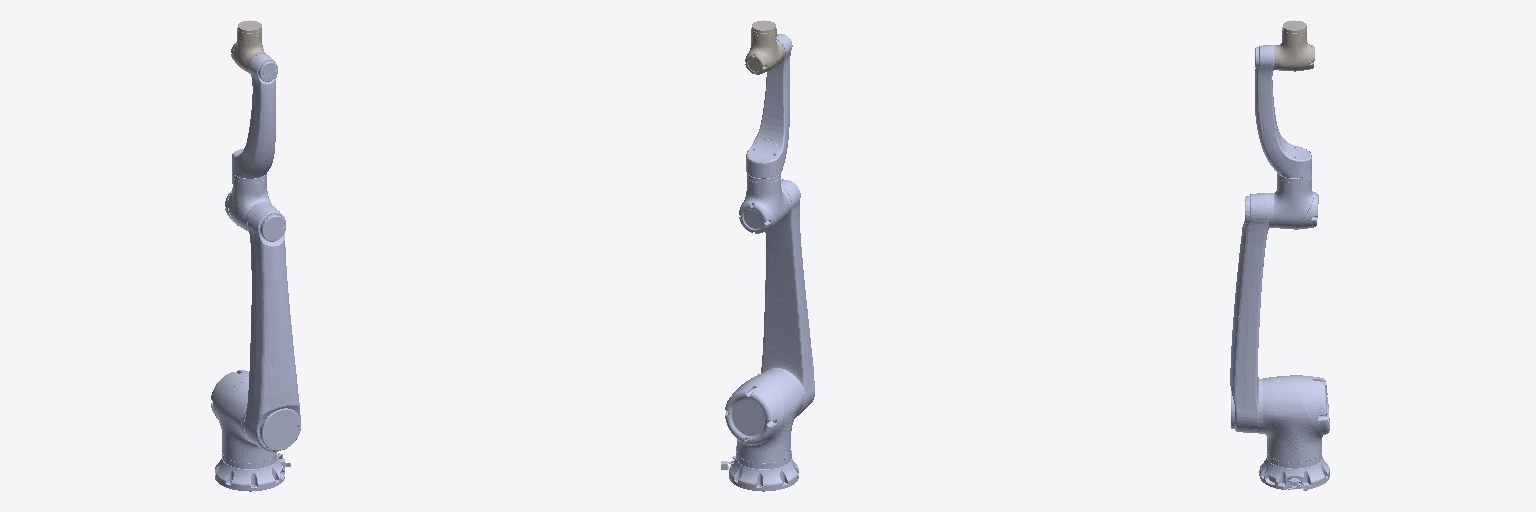
The robot description file, URDF, robot "E15_Pro":
<?xml version="1.0" encoding="utf-8"?>
<!-- This URDF was automatically created by SolidWorks to URDF Exporter! Originally created by Stephen Brawner (brawner@gmail.com) 
     Commit Version: 1.6.0-1-g15f4949  Build Version: 1.6.7594.29634
     For more information, please see http://wiki.ros.org/sw_urdf_exporter -->
<robot
  name="E15_Pro">
  <link
    name="elfin_base">
    <inertial>
      <origin
        xyz="-0.00199411553277064 0.00063323621214391 0.0301424235634334"
        rpy="0 0 0" />
      <mass
        value="2.27708985449447" />
      <inertia
        ixx="0.00782299698813237"
        ixy="-0.000107362051107486"
        ixz="-5.91745158864119E-05"
        iyy="0.00729502919076158"
        iyz="1.17813894444097E-05"
        izz="0.0136674477034192" />
    </inertial>
    <visual>
      <origin
        xyz="0 0 0"
        rpy="0 0 0" />
      <geometry>
        <mesh
          filename="package://E15_Pro/meshes/elfin_base.STL" />
      </geometry>
      <material
        name="">
        <color
          rgba="0.792156862745098 0.819607843137255 0.933333333333333 1" />
      </material>
    </visual>
    <collision>
      <origin
        xyz="0 0 0"
        rpy="0 0 0" />
      <geometry>
        <mesh
          filename="package://E15_Pro/meshes/elfin_base.STL" />
      </geometry>
    </collision>
  </link>
  <link
    name="elfin_link1">
    <inertial>
      <origin
        xyz="1.36842512910907E-05 -0.00676369891392312 -0.0422311423079152"
        rpy="0 0 0" />
      <mass
        value="10.3929249423409" />
      <inertia
        ixx="0.0828964585786518"
        ixy="1.1067410096532E-05"
        ixz="-1.58971530314236E-05"
        iyy="0.082308395988101"
        iyz="0.0139305860641097"
        izz="0.0523718010626434" />
    </inertial>
    <visual>
      <origin
        xyz="0 0 0"
        rpy="0 0 0" />
      <geometry>
        <mesh
          filename="package://E15_Pro/meshes/elfin_link1.STL" />
      </geometry>
      <material
        name="">
        <color
          rgba="0.792156862745098 0.819607843137255 0.933333333333333 1" />
      </material>
    </visual>
    <collision>
      <origin
        xyz="0 0 0"
        rpy="0 0 0" />
      <geometry>
        <mesh
          filename="package://E15_Pro/meshes/elfin_link1.STL" />
      </geometry>
    </collision>
  </link>
  <joint
    name="elfin_joint1"
    type="revolute">
    <origin
      xyz="0 0 0.262"
      rpy="0 0 0" />
    <parent
      link="elfin_base" />
    <child
      link="elfin_link1" />
    <axis
      xyz="0 0 1" />
    <limit
      lower="-3.14"
      upper="3.14"
      effort="420"
      velocity="1.57" />
  </joint>
  <link
    name="elfin_link2">
    <inertial>
      <origin
        xyz="2.07994897549779E-05 0.295038953315824 0.157191987297606"
        rpy="0 0 0" />
      <mass
        value="9.19491928952107" />
      <inertia
        ixx="0.546697742927701"
        ixy="-5.86626053178139E-05"
        ixz="-4.41304390374249E-06"
        iyy="0.021193831257034"
        iyz="0.0305941138252272"
        izz="0.55359780949348" />
    </inertial>
    <visual>
      <origin
        xyz="0 0 0"
        rpy="0 0 0" />
      <geometry>
        <mesh
          filename="package://E15_Pro/meshes/elfin_link2.STL" />
      </geometry>
      <material
        name="">
        <color
          rgba="0.792156862745098 0.819607843137255 0.933333333333333 1" />
      </material>
    </visual>
    <collision>
      <origin
        xyz="0 0 0"
        rpy="0 0 0" />
      <geometry>
        <mesh
          filename="package://E15_Pro/meshes/elfin_link2.STL" />
      </geometry>
    </collision>
  </link>
  <joint
    name="elfin_joint2"
    type="revolute">
    <origin
      xyz="0 0 0"
      rpy="1.5708 0 0" />
    <parent
      link="elfin_link1" />
    <child
      link="elfin_link2" />
    <axis
      xyz="0 0 1" />
    <limit
      lower="-2.35"
      upper="2.35"
      effort="420"
      velocity="1.57" />
  </joint>
  <link
    name="elfin_link3">
    <inertial>
      <origin
        xyz="0.037086533426578 -2.76484244092204E-06 -0.00590525675764963"
        rpy="0 0 0" />
      <mass
        value="3.16386481656016" />
      <inertia
        ixx="0.00694845222729542"
        ixy="4.19153596492121E-07"
        ixz="-0.00236462552129021"
        iyy="0.0129640972388441"
        iyz="-1.19614353055274E-07"
        izz="0.0121432398176995" />
    </inertial>
    <visual>
      <origin
        xyz="0 0 0"
        rpy="0 0 0" />
      <geometry>
        <mesh
          filename="package://E15_Pro/meshes/elfin_link3.STL" />
      </geometry>
      <material
        name="">
        <color
          rgba="0.792156862745098 0.819607843137255 0.933333333333333 1" />
      </material>
    </visual>
    <collision>
      <origin
        xyz="0 0 0"
        rpy="0 0 0" />
      <geometry>
        <mesh
          filename="package://E15_Pro/meshes/elfin_link3.STL" />
      </geometry>
    </collision>
  </link>
  <joint
    name="elfin_joint3"
    type="revolute">
    <origin
      xyz="0 0.73 0"
      rpy="3.1416 0 1.5708" />
    <parent
      link="elfin_link2" />
    <child
      link="elfin_link3" />
    <axis
      xyz="0 0 1" />
    <limit
      lower="-2.61"
      upper="2.61"
      effort="200"
      velocity="1.57" />
  </joint>
  <link
    name="elfin_link4">
    <inertial>
      <origin
        xyz="4.12080256020668E-05 -0.0670953503097295 0.32255223684202"
        rpy="0 0 0" />
      <mass
        value="2.69476130736526" />
      <inertia
        ixx="0.0546354426202922"
        ixy="3.71719995396986E-06"
        ixz="-1.96382354686884E-05"
        iyy="0.0508168876899657"
        iyz="0.0117411763085427"
        izz="0.00741590155255334" />
    </inertial>
    <visual>
      <origin
        xyz="0 0 0"
        rpy="0 0 0" />
      <geometry>
        <mesh
          filename="package://E15_Pro/meshes/elfin_link4.STL" />
      </geometry>
      <material
        name="">
        <color
          rgba="0.792156862745098 0.819607843137255 0.933333333333333 1" />
      </material>
    </visual>
    <collision>
      <origin
        xyz="0 0 0"
        rpy="0 0 0" />
      <geometry>
        <mesh
          filename="package://E15_Pro/meshes/elfin_link4.STL" />
      </geometry>
    </collision>
  </link>
  <joint
    name="elfin_joint4"
    type="revolute">
    <origin
      xyz="0 0 0"
      rpy="1.5708 0 1.5708" />
    <parent
      link="elfin_link3" />
    <child
      link="elfin_link4" />
    <axis
      xyz="0 0 1" />
    <limit
      lower="-3.14"
      upper="3.14"
      effort="200"
      velocity="1.57" />
  </joint>
  <link
    name="elfin_link5">
    <inertial>
      <origin
        xyz="5.48843702646031E-06 -0.027350343019322 -0.00487894526110686"
        rpy="0 0 0" />
      <mass
        value="1.35243047686757" />
      <inertia
        ixx="0.00332334754657183"
        ixy="2.20499035641612E-07"
        ixz="-5.56434244430056E-07"
        iyy="0.00178064852565376"
        iyz="0.000626857795225032"
        izz="0.00287611519664655" />
    </inertial>
    <visual>
      <origin
        xyz="0 0 0"
        rpy="0 0 0" />
      <geometry>
        <mesh
          filename="package://E15_Pro/meshes/elfin_link5.STL" />
      </geometry>
      <material
        name="">
        <color
          rgba="0.772549019607843 0.752941176470588 0.733333333333333 1" />
      </material>
    </visual>
    <collision>
      <origin
        xyz="0 0 0"
        rpy="0 0 0" />
      <geometry>
        <mesh
          filename="package://E15_Pro/meshes/elfin_link5.STL" />
      </geometry>
    </collision>
  </link>
  <joint
    name="elfin_joint5"
    type="revolute">
    <origin
      xyz="0 0 0.57"
      rpy="-1.5708 0 0" />
    <parent
      link="elfin_link4" />
    <child
      link="elfin_link5" />
    <axis
      xyz="0 0 1" />
    <limit
      lower="-2.56"
      upper="2.56"
      effort="69"
      velocity="1.57" />
  </joint>
  <link
    name="elfin_link6">
    <inertial>
      <origin
        xyz="-7.71394797327125E-05 -0.000112338117269799 0.160769729604907"
        rpy="0 0 0" />
      <mass
        value="0.164770825541002" />
      <inertia
        ixx="0.000114606989323086"
        ixy="-4.48444250338685E-08"
        ixz="-4.66330485319873E-08"
        iyy="0.000116866019496432"
        iyz="-8.78797090801326E-08"
        izz="0.000214994123243836" />
    </inertial>
    <visual>
      <origin
        xyz="0 0 0"
        rpy="0 0 0" />
      <geometry>
        <mesh
          filename="package://E15_Pro/meshes/elfin_link6.STL" />
      </geometry>
      <material
        name="">
        <color
          rgba="0.792156862745098 0.819607843137255 0.933333333333333 1" />
      </material>
    </visual>
    <collision>
      <origin
        xyz="0 0 0"
        rpy="0 0 0" />
      <geometry>
        <mesh
          filename="package://E15_Pro/meshes/elfin_link6.STL" />
      </geometry>
    </collision>
  </link>
  <joint
    name="elfin_joint6"
    type="revolute">
    <origin
      xyz="0 0 0"
      rpy="1.5708 0 0" />
    <parent
      link="elfin_link5" />
    <child
      link="elfin_link6" />
    <axis
      xyz="0 0 1" />
    <limit
      lower="-3.14"
      upper="3.14"
      effort="69"
      velocity="1.57" />
  </joint>
  <link
    name="elfin_end_link">
    <inertial>
      <origin
        xyz="-7.71394797327151E-05 -0.0001123381172698 -0.0392302703951926"
        rpy="0 0 0" />
      <mass
        value="0.164770825541002" />
      <inertia
        ixx="0.000114606989323086"
        ixy="-4.48444250338691E-08"
        ixz="-4.66330485319844E-08"
        iyy="0.000116866019496432"
        iyz="-8.78797090801307E-08"
        izz="0.000214994123243836" />
    </inertial>
    <visual>
      <origin
        xyz="0 0 0"
        rpy="0 0 0" />
      <geometry>
        <mesh
          filename="package://E15_Pro/meshes/elfin_end_link.STL" />
      </geometry>
      <material
        name="">
        <color
          rgba="0.792156862745098 0.819607843137255 0.933333333333333 1" />
      </material>
    </visual>
    <collision>
      <origin
        xyz="0 0 0"
        rpy="0 0 0" />
      <geometry>
        <mesh
          filename="package://E15_Pro/meshes/elfin_end_link.STL" />
      </geometry>
    </collision>
  </link>
  <joint
    name="elfin_end_joint"
    type="fixed">
    <origin
      xyz="0 0 0.200000000000099"
      rpy="0 0 0" />
    <parent
      link="elfin_link6" />
    <child
      link="elfin_end_link" />
    <axis
      xyz="0 0 0" />
  </joint>
</robot>

--- Render facts (derived) ---
3 views of the same robot in one strip: view 1: azimuth 30°, elevation 25°; view 2: azimuth 150°, elevation 25°; view 3: azimuth 270°, elevation 25° (orthographic).
Robot: E15_Pro — 8 links, 7 joints (6 revolute, 1 fixed); root link elfin_base; default pose: every joint at zero.
Links seen in each view (by area): view 1: elfin_link2, elfin_link4, elfin_link1, elfin_base, elfin_link3, elfin_link5; view 2: elfin_link2, elfin_link1, elfin_link4, elfin_link3, elfin_base, elfin_link5; view 3: elfin_link2, elfin_link1, elfin_link4, elfin_link3, elfin_link5, elfin_base.
Boxes of the visible links, x1,y1,x2,y2 form: elfin_link2: [244, 204, 300, 451]; elfin_link4: [232, 54, 277, 178]; elfin_link1: [211, 370, 276, 468]; elfin_base: [215, 453, 290, 491]; elfin_link3: [225, 172, 271, 231]; elfin_link5: [231, 20, 265, 73]; elfin_link2: [761, 179, 814, 411]; elfin_link1: [725, 368, 805, 468]; elfin_link4: [746, 34, 792, 178]; elfin_link3: [739, 174, 791, 233]; elfin_base: [721, 456, 798, 491]; elfin_link5: [745, 20, 784, 74]; elfin_link2: [1230, 193, 1268, 432]; elfin_link1: [1259, 375, 1329, 468]; elfin_link4: [1255, 45, 1311, 177]; elfin_link3: [1269, 173, 1318, 229]; elfin_link5: [1274, 20, 1314, 71]; elfin_base: [1259, 457, 1329, 490].
Bounding box of the posed robot: 0.2691 × 0.3374 × 1.68 m (x, y, z).
6 mesh visuals loaded from 8 distinct referenced files (6 binary STL); not drawn: 2 (reference not matched to a file when rendering).
